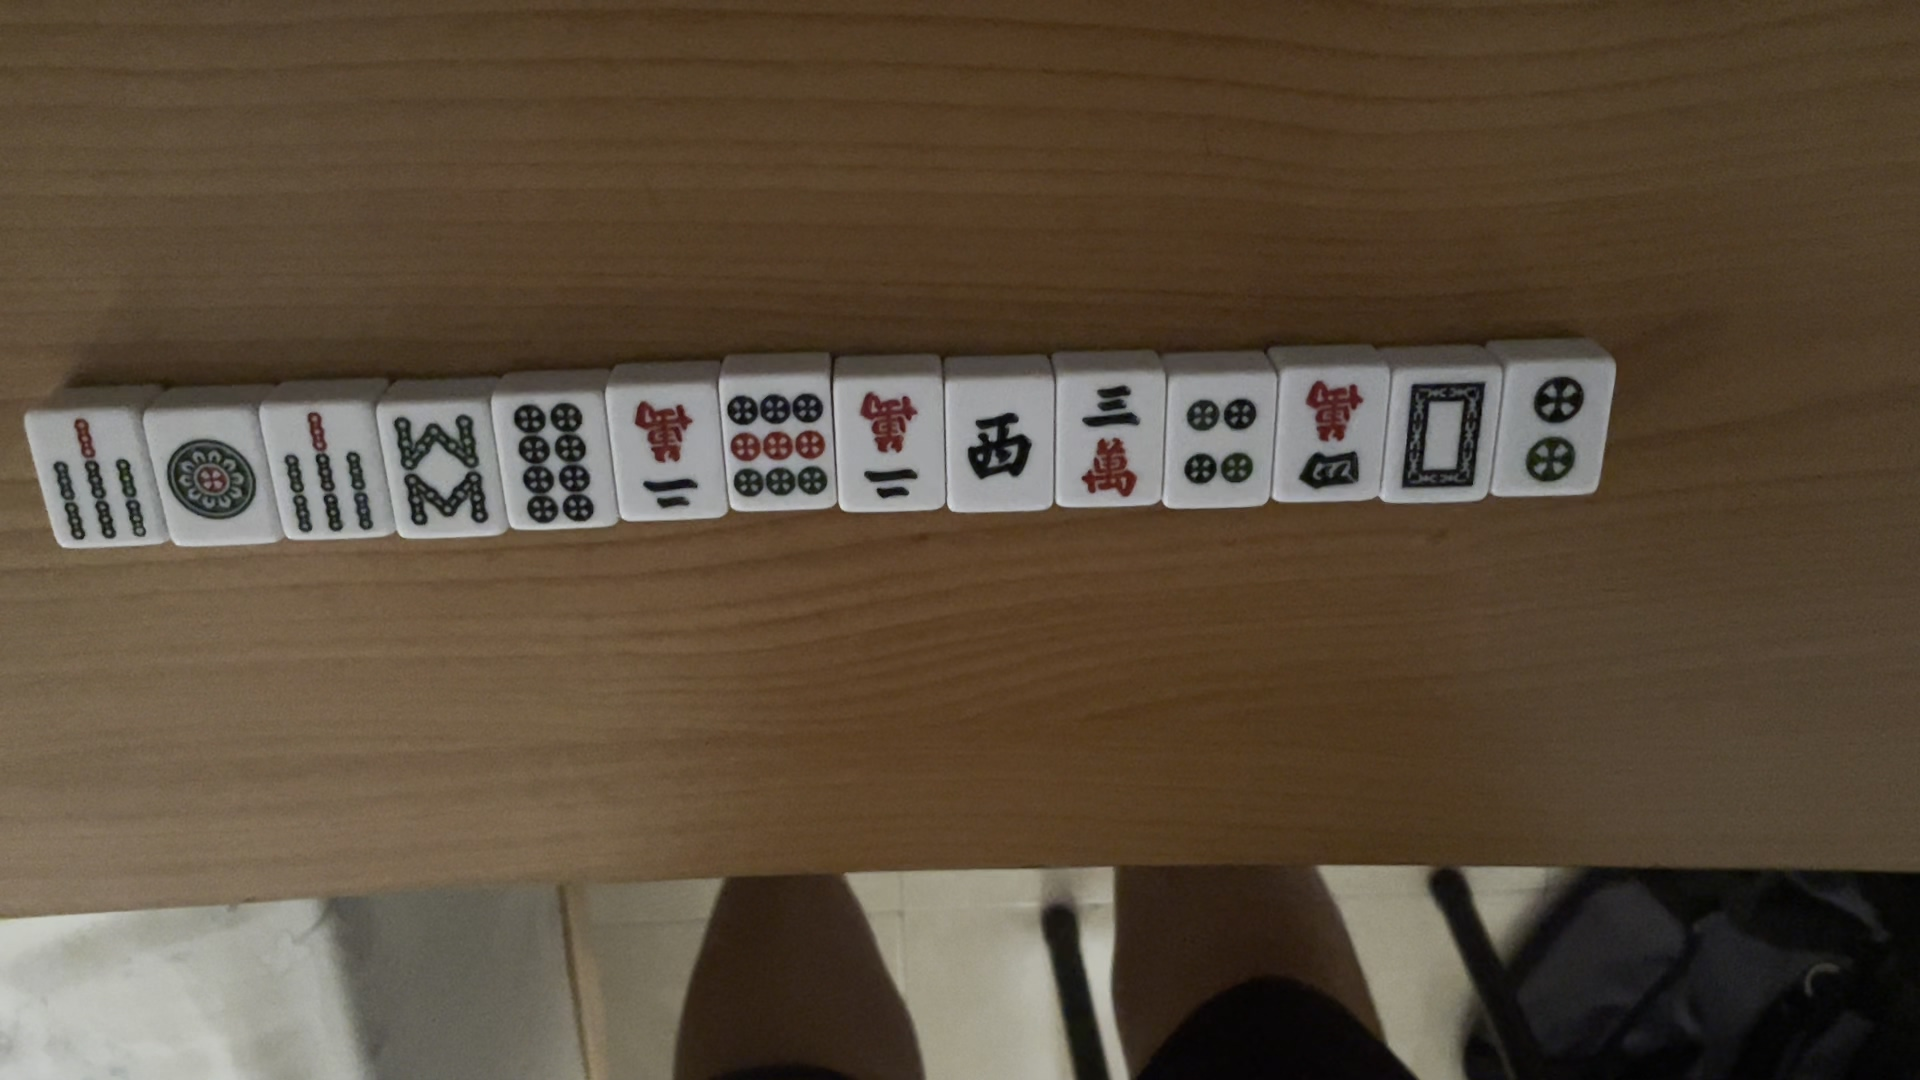b-7: (268, 407, 382, 546), (38, 411, 152, 550)
b-8: (392, 409, 491, 535)
c-2: (848, 386, 934, 510), (622, 396, 707, 520)
c-3: (1076, 382, 1142, 498)
c-4: (1291, 377, 1370, 493)
d-1: (164, 433, 257, 522)
d-2: (1522, 373, 1586, 485)
d-4: (1182, 392, 1261, 492)
d-8: (504, 402, 596, 525)
d-9: (723, 382, 829, 505)
hornors-west: (965, 404, 1044, 491)
hornors-white: (1399, 377, 1493, 496)
